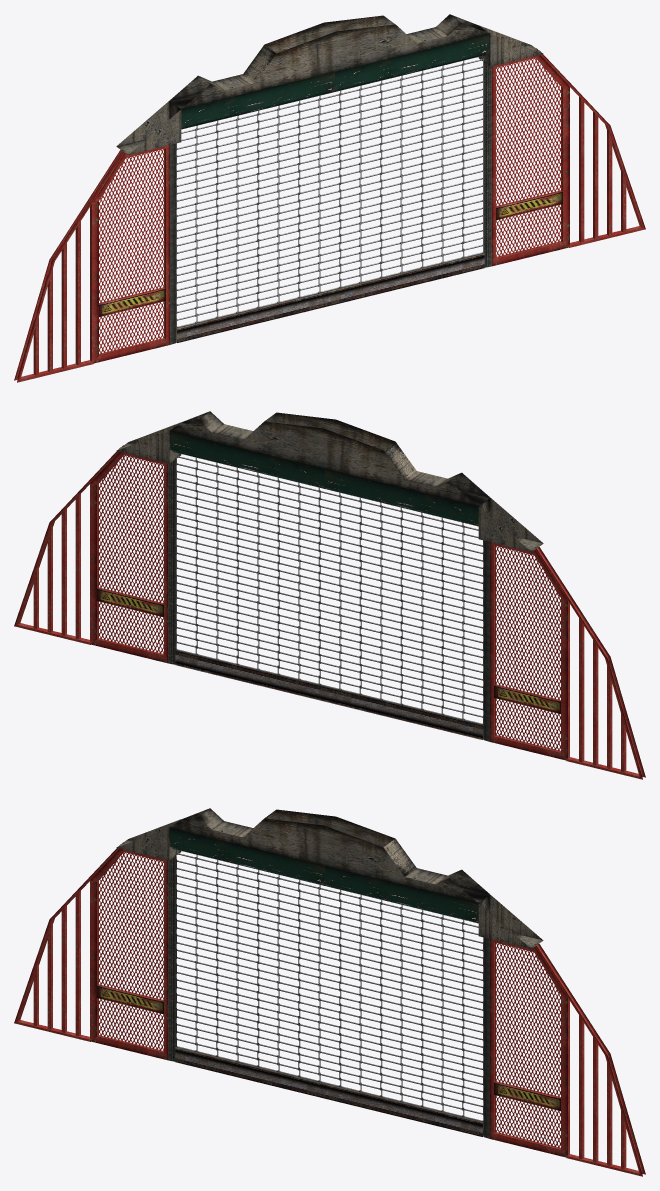
Rendered from subway_gate_round_hallway.fbx.
3 views of the same model, one above another, from view 1: azimuth 30°, elevation 25°; view 2: azimuth 150°, elevation 25°; view 3: azimuth 330°, elevation 25° (orthographic).
Parts seen in each view (by area): view 1: mesh_1, mesh_5, mesh_6, mesh_7, mesh_9, mesh_2, mesh_0, mesh_10, mesh_8, mesh_4, mesh_3, mesh_15 (+3 smaller); view 2: mesh_1, mesh_5, mesh_6, mesh_7, mesh_9, mesh_2, mesh_0, mesh_10, mesh_8, mesh_4, mesh_3, mesh_15 (+3 smaller); view 3: mesh_1, mesh_5, mesh_6, mesh_9, mesh_7, mesh_2, mesh_10, mesh_0, mesh_3, mesh_4, mesh_8, mesh_15 (+3 smaller).
Part boxes in pixels (x1=…): mesh_1: x1=176, y1=58, x2=483, y2=341; mesh_5: x1=170, y1=14, x2=489, y2=108; mesh_6: x1=483, y1=48, x2=645, y2=267; mesh_7: x1=496, y1=58, x2=561, y2=257; mesh_9: x1=99, y1=148, x2=164, y2=354; mesh_2: x1=170, y1=25, x2=489, y2=129; mesh_0: x1=176, y1=253, x2=484, y2=342; mesh_10: x1=90, y1=143, x2=176, y2=363; mesh_8: x1=14, y1=150, x2=124, y2=382; mesh_4: x1=116, y1=100, x2=181, y2=154; mesh_3: x1=478, y1=25, x2=543, y2=66; mesh_15: x1=99, y1=287, x2=165, y2=317; mesh_1: x1=176, y1=455, x2=483, y2=738; mesh_5: x1=170, y1=411, x2=489, y2=505; mesh_6: x1=14, y1=445, x2=176, y2=664; mesh_7: x1=98, y1=455, x2=163, y2=654; mesh_9: x1=495, y1=545, x2=560, y2=751; mesh_2: x1=170, y1=422, x2=489, y2=526; mesh_0: x1=175, y1=650, x2=483, y2=739; mesh_10: x1=483, y1=540, x2=569, y2=760; mesh_8: x1=535, y1=547, x2=645, y2=779; mesh_4: x1=478, y1=497, x2=543, y2=551; mesh_3: x1=116, y1=422, x2=181, y2=463; mesh_15: x1=494, y1=684, x2=560, y2=714; mesh_1: x1=176, y1=850, x2=483, y2=1135; mesh_5: x1=170, y1=808, x2=489, y2=902; mesh_6: x1=483, y1=937, x2=645, y2=1176; mesh_9: x1=98, y1=852, x2=163, y2=1051; mesh_7: x1=495, y1=942, x2=560, y2=1148; mesh_2: x1=170, y1=819, x2=489, y2=923; mesh_10: x1=90, y1=849, x2=176, y2=1061; mesh_0: x1=175, y1=1047, x2=483, y2=1136; mesh_3: x1=478, y1=895, x2=543, y2=948; mesh_4: x1=116, y1=819, x2=181, y2=860; mesh_8: x1=14, y1=842, x2=123, y2=1041; mesh_15: x1=97, y1=984, x2=163, y2=1014.
Bounding box in the file's own units: 900 × 380 × 30.
Materials: 4 (4 with a texture image).
